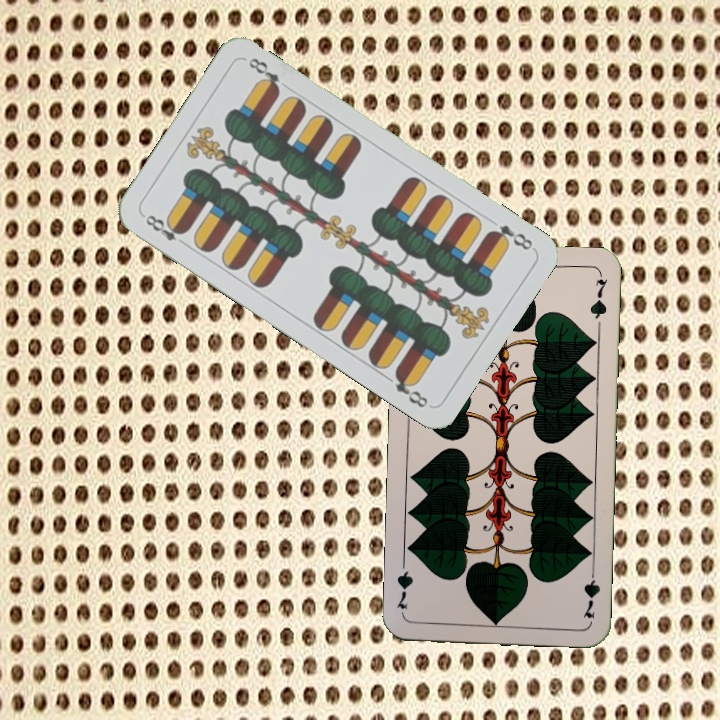E8: (141, 210, 191, 250), (483, 220, 536, 253)
G7: (579, 562, 602, 621)
